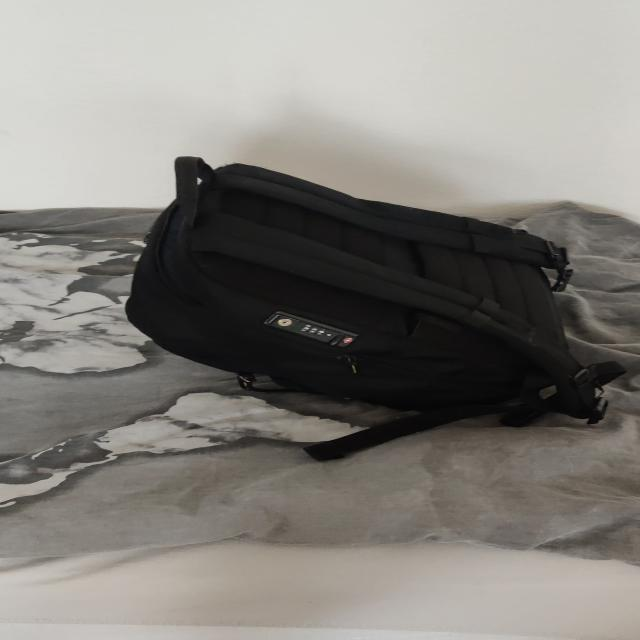backpack: (108, 144, 618, 442)
